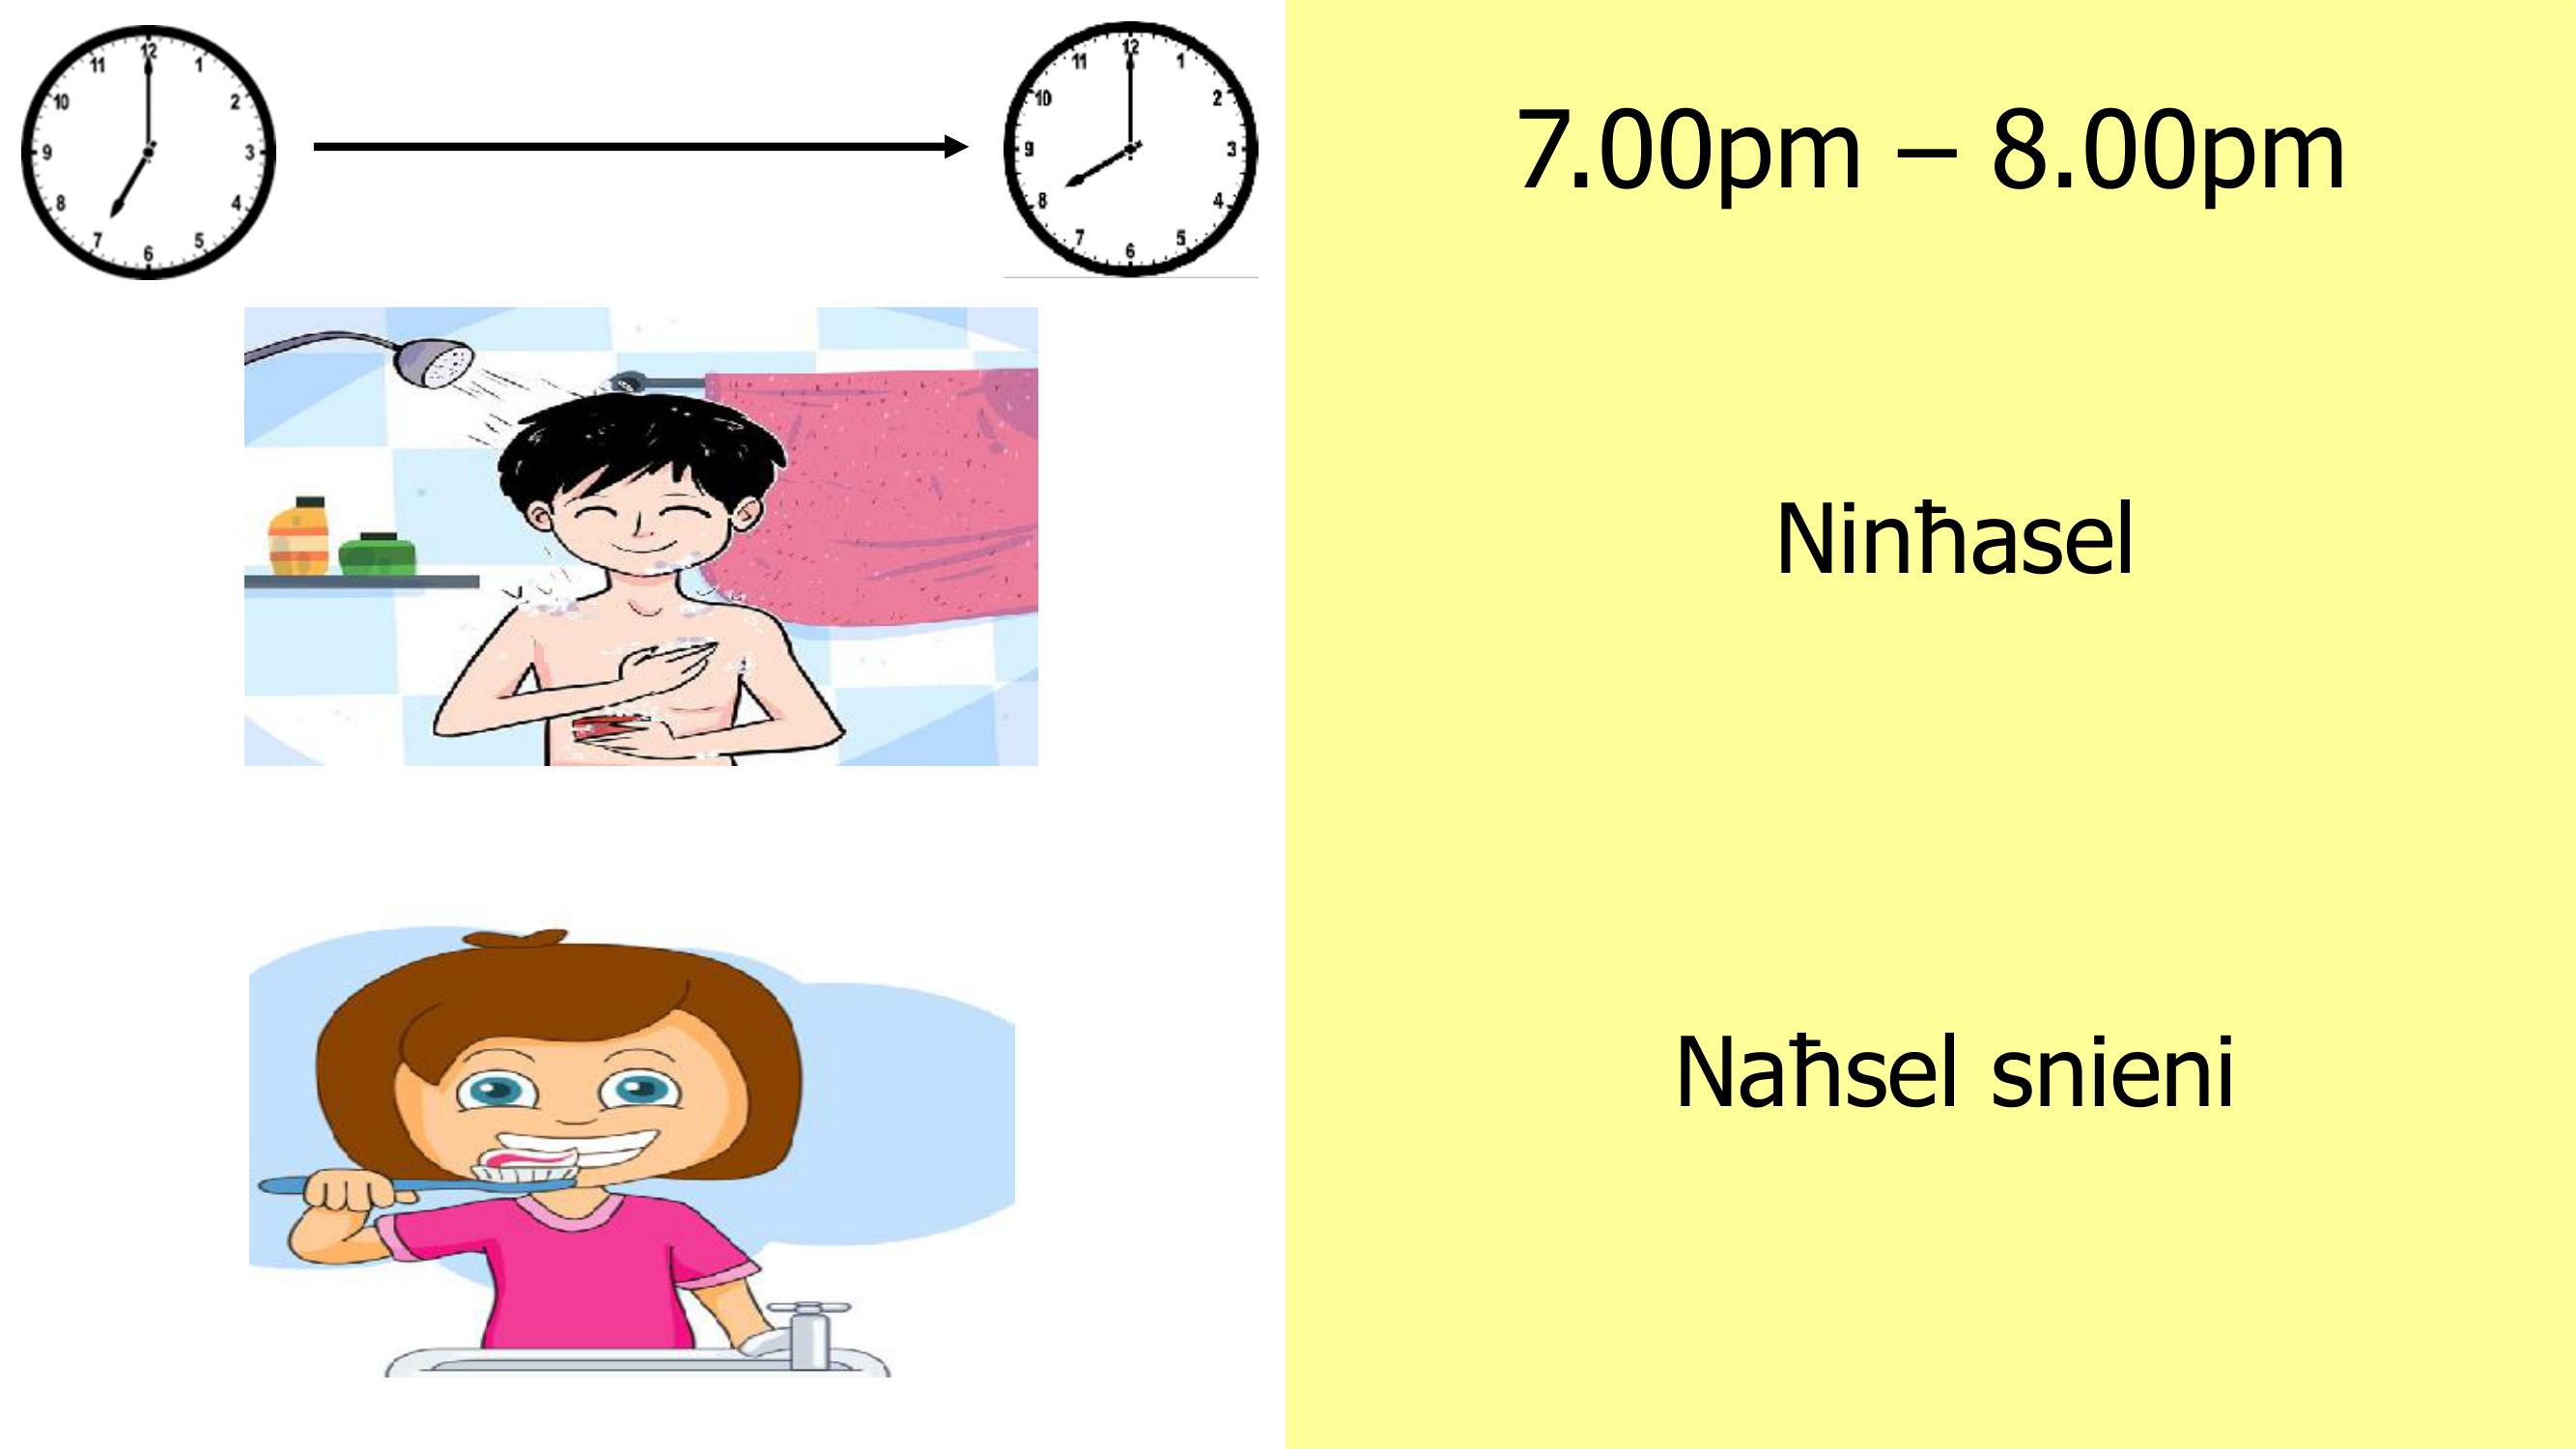text: (1626, 464, 2273, 1157)
